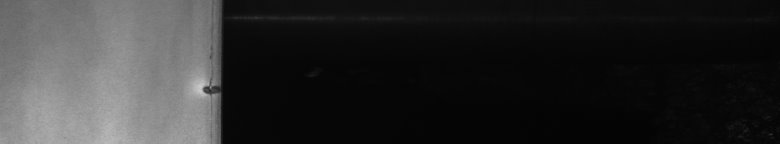hb: (194, 68, 208, 104)
